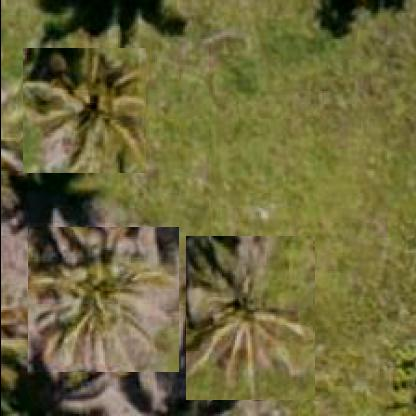coconut tree: (26, 228, 178, 374), (184, 236, 314, 401), (21, 48, 145, 174)
